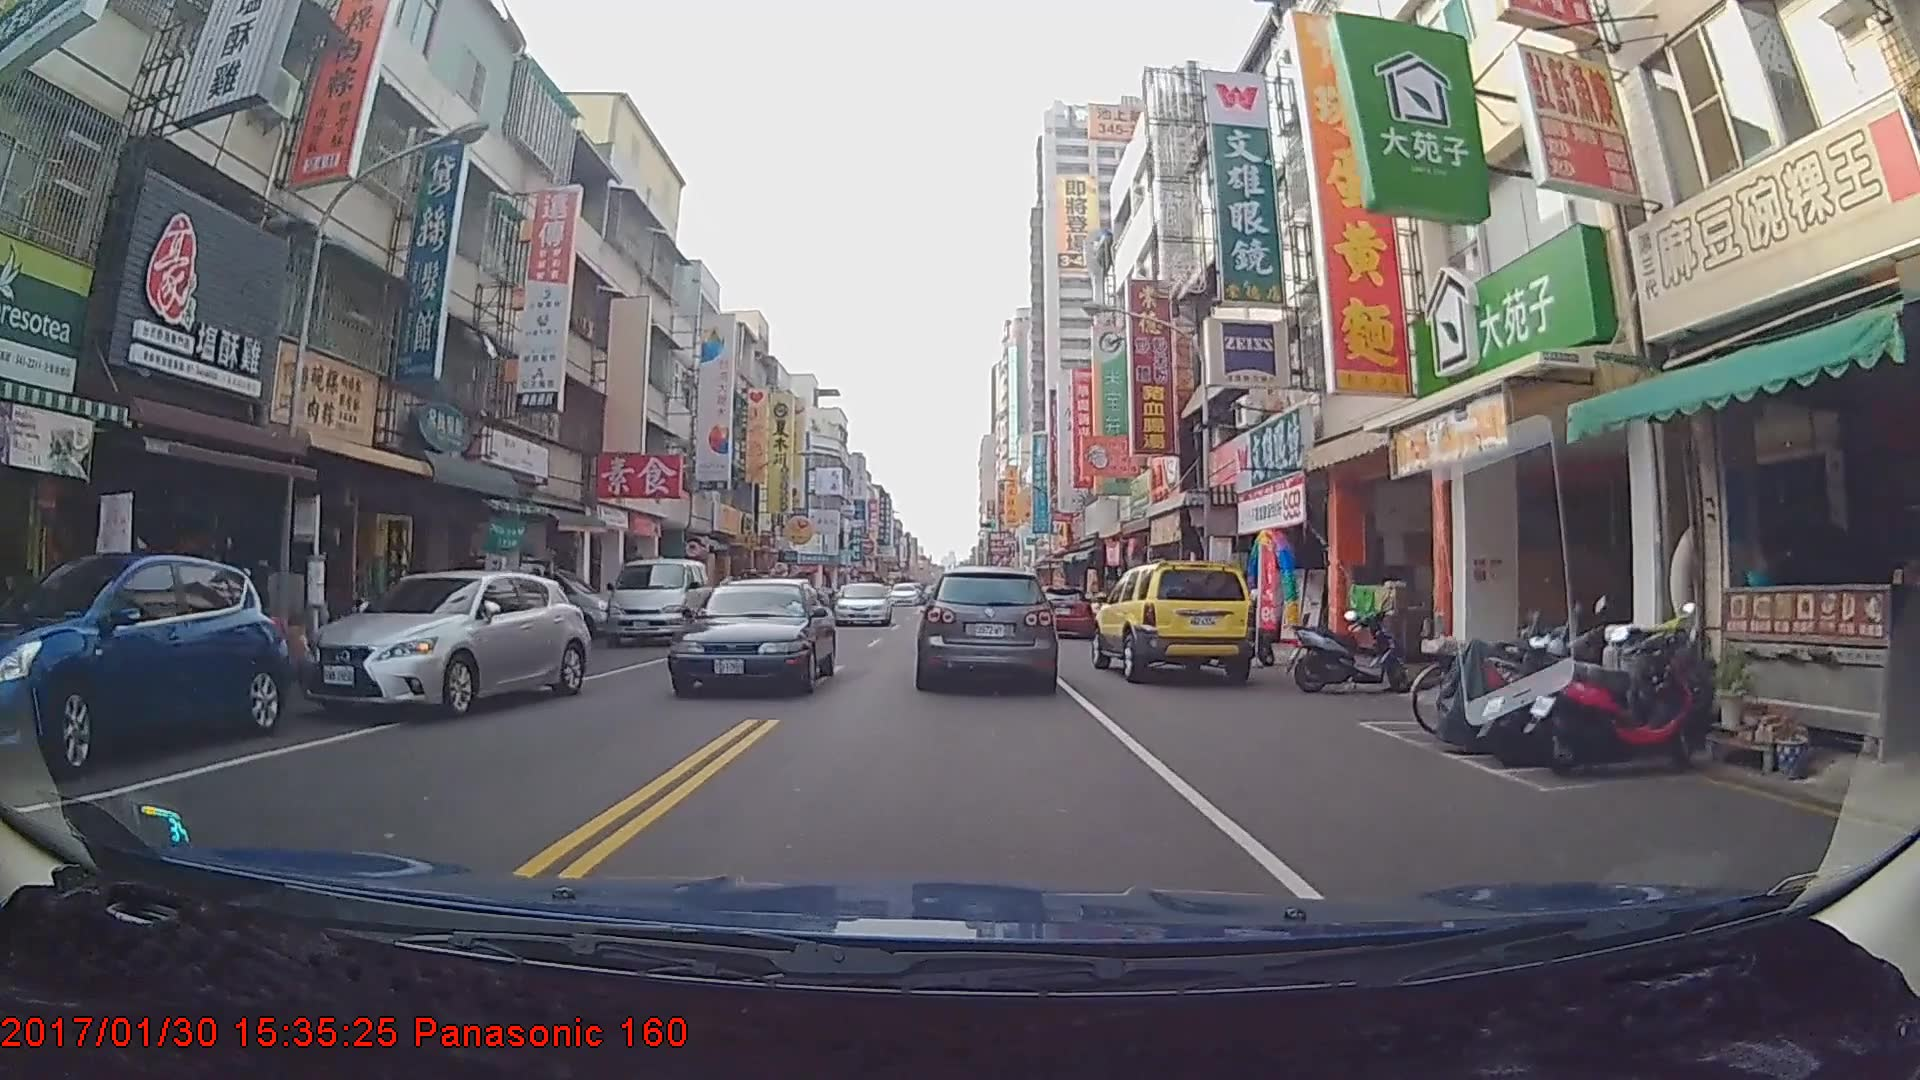vehicle: (0, 549, 289, 770), (291, 566, 591, 717), (665, 574, 835, 700), (1093, 554, 1255, 682), (920, 563, 1054, 691), (604, 556, 711, 644), (1029, 584, 1095, 637), (832, 582, 890, 628), (890, 583, 920, 607)
